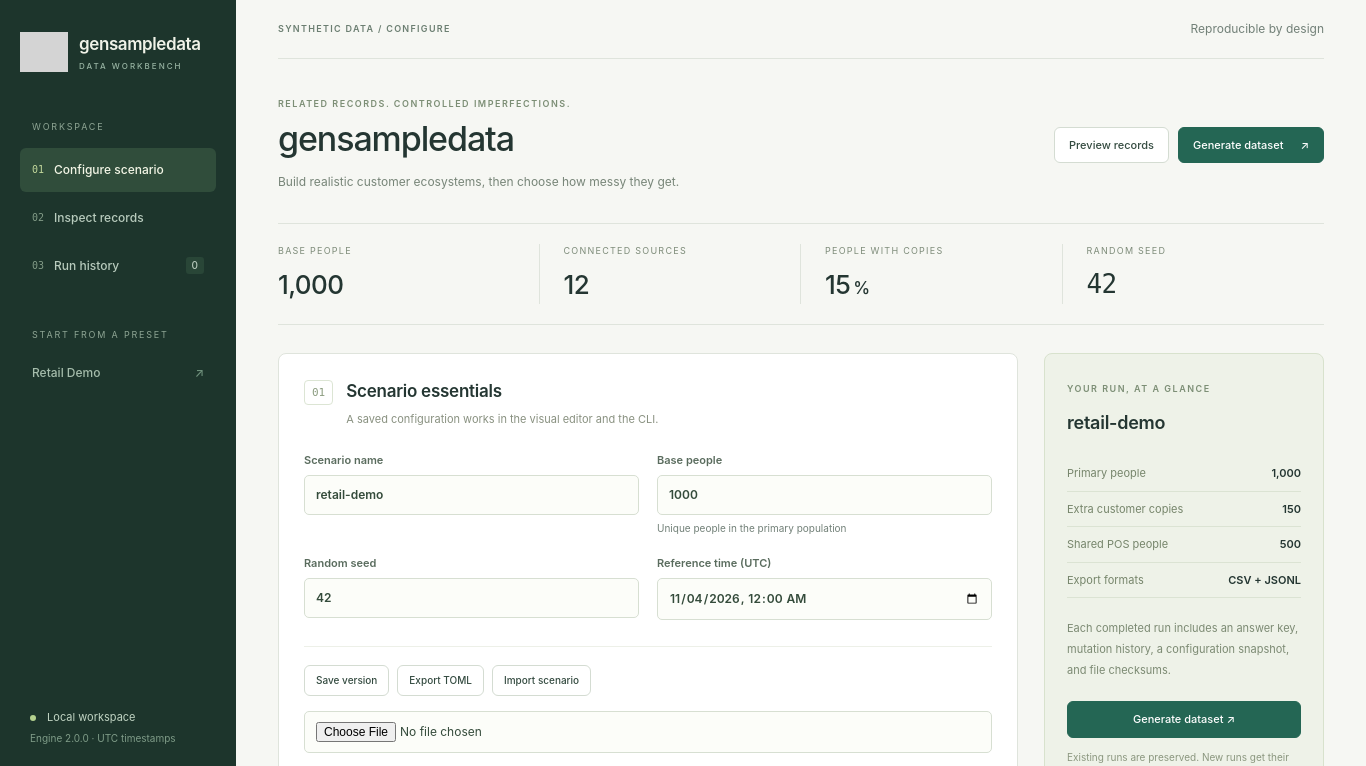
Scenario: workbench user flows › shows the linked person and before/after changes in a preview
This screenshot has width=1366, height=766.
expect the number field labelled "Base people Unique people in the primary population" is shown: met, box [657,475,992,515]
Click the button "Preview records": click(1112, 145) [1054,127,1169,163]
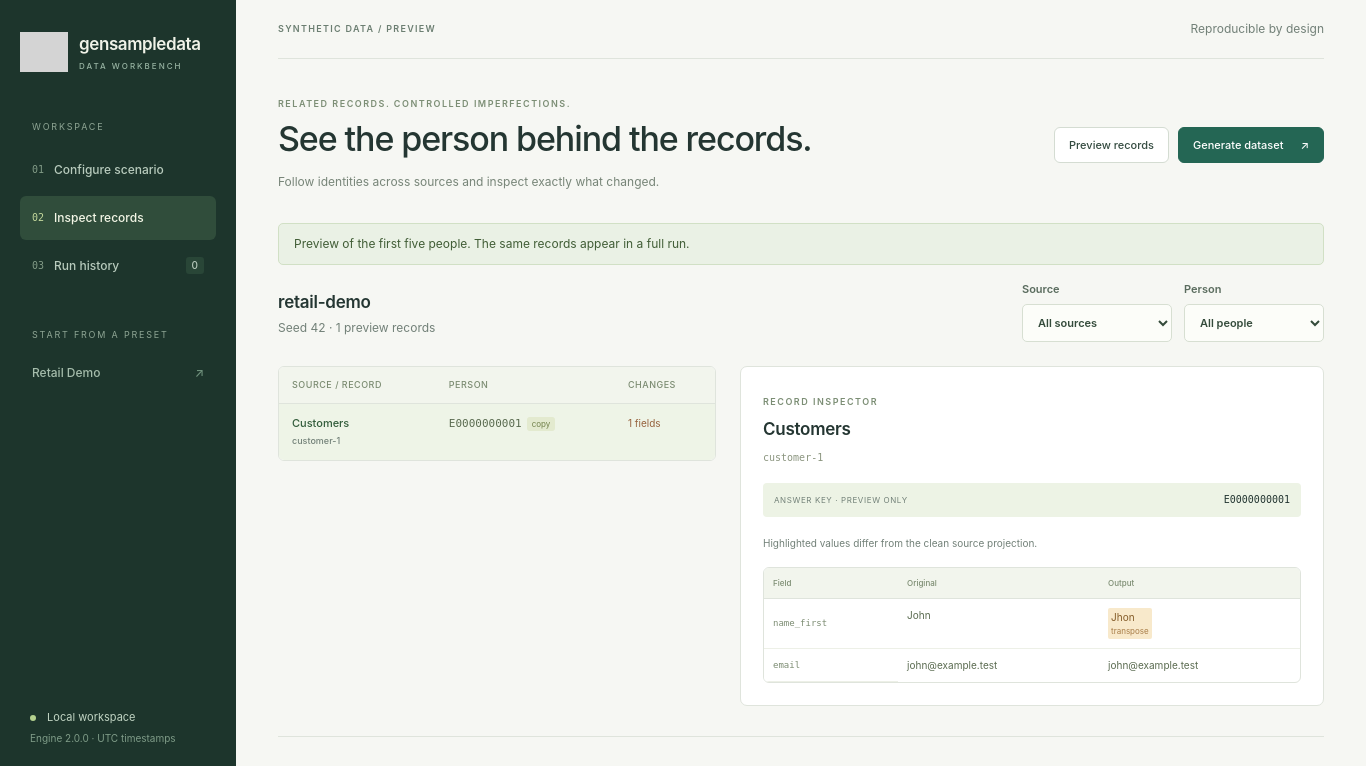
expect the heading "See the person behind the records." is shown: met, box [278,118,812,159]
expect the text "John" is shown: met, box [898,598,1099,648]
expect the text "Jhon" is shown: met, box [1111,611,1134,623]
